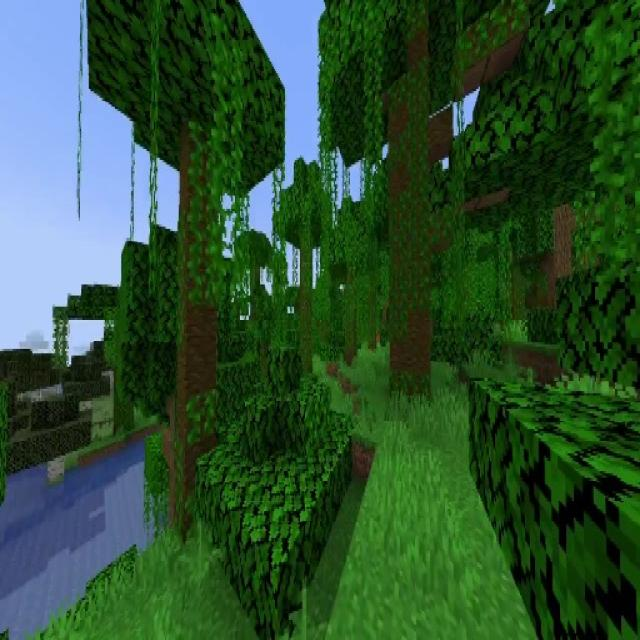jungle: (84, 0, 289, 541), (317, 2, 466, 401), (280, 156, 332, 374)
jungle_log: (175, 152, 222, 521), (390, 72, 433, 407), (300, 235, 314, 379)
oak_log: (552, 210, 572, 280)
